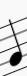note: (5, 17, 25, 72)
